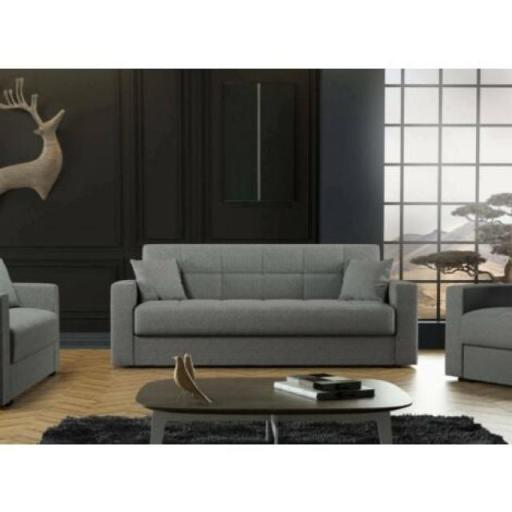sofa: (102, 216, 444, 404)
